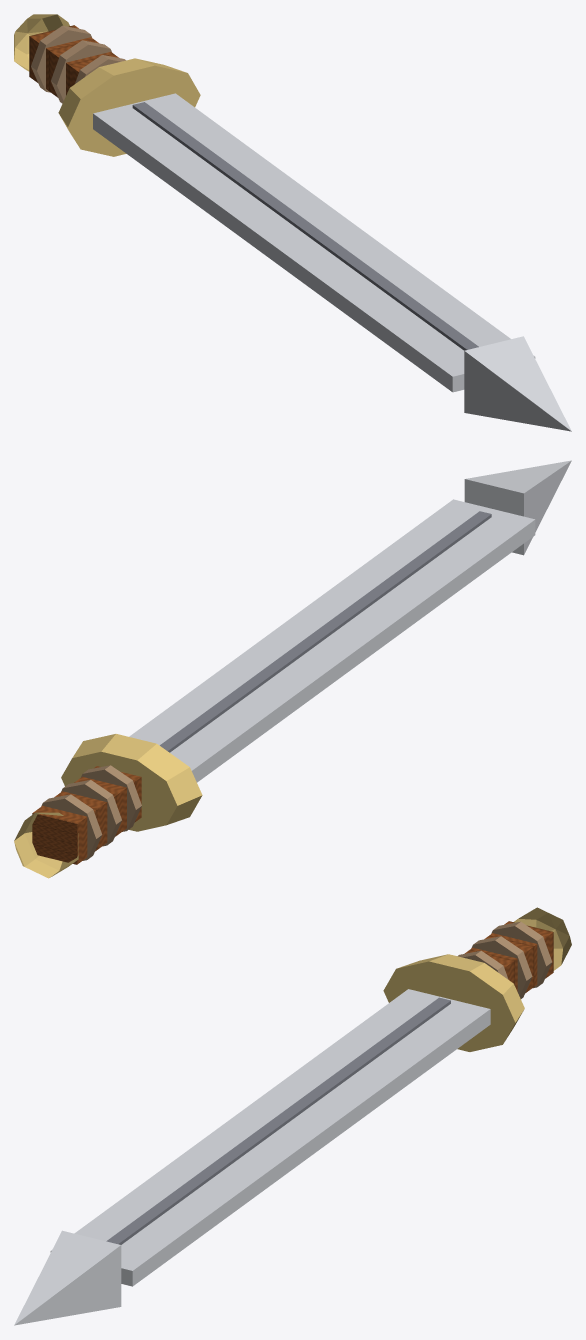
File: legendary-warriors-kit-warrior-gladius-c2801fec__39211.glb
The picture shows the model from 3 angles, top to bottom: view 1: azimuth 30°, elevation 25°; view 2: azimuth 150°, elevation 25°; view 3: azimuth 330°, elevation 25°; orthographic projection.
Visible parts, largest first — view 1: warrior-gladius; view 2: warrior-gladius; view 3: warrior-gladius.
Boxes of the visible parts, left/top/right/bottom form: warrior-gladius: left=14, top=14, right=571, bottom=431; warrior-gladius: left=14, top=460, right=571, bottom=878; warrior-gladius: left=14, top=907, right=571, bottom=1325.
Bounding box in the file's own units: 0.0884 × 0.0517 × 0.628.
Materials: 5 (1 with a texture image).
